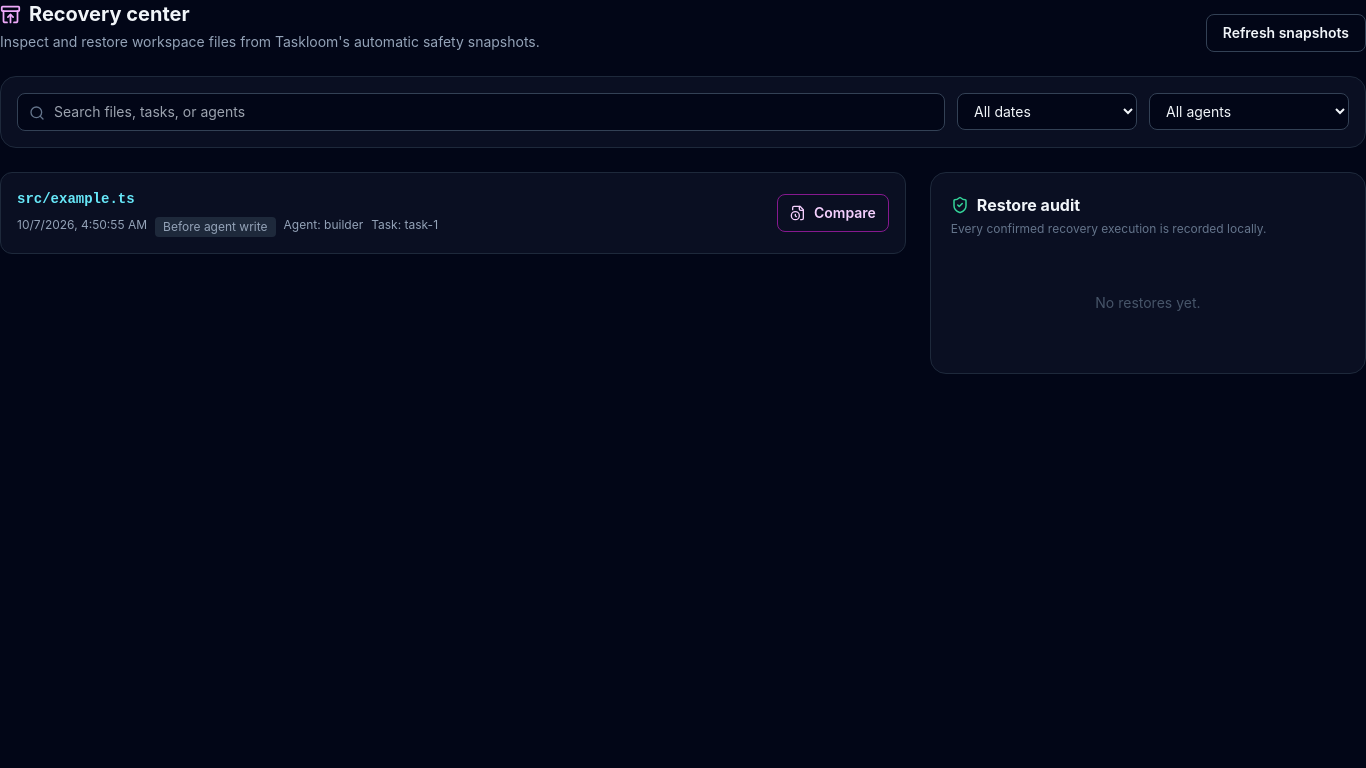
SnapshotsDashboard › filters snapshots and opens a side-by-side preview
Expected: the text "src/example.ts" is shown, [17,191,135,207]
Type "missing" into the field with placeholder "Search files, tasks, or agents" at (481, 112), box [17,93,945,131]
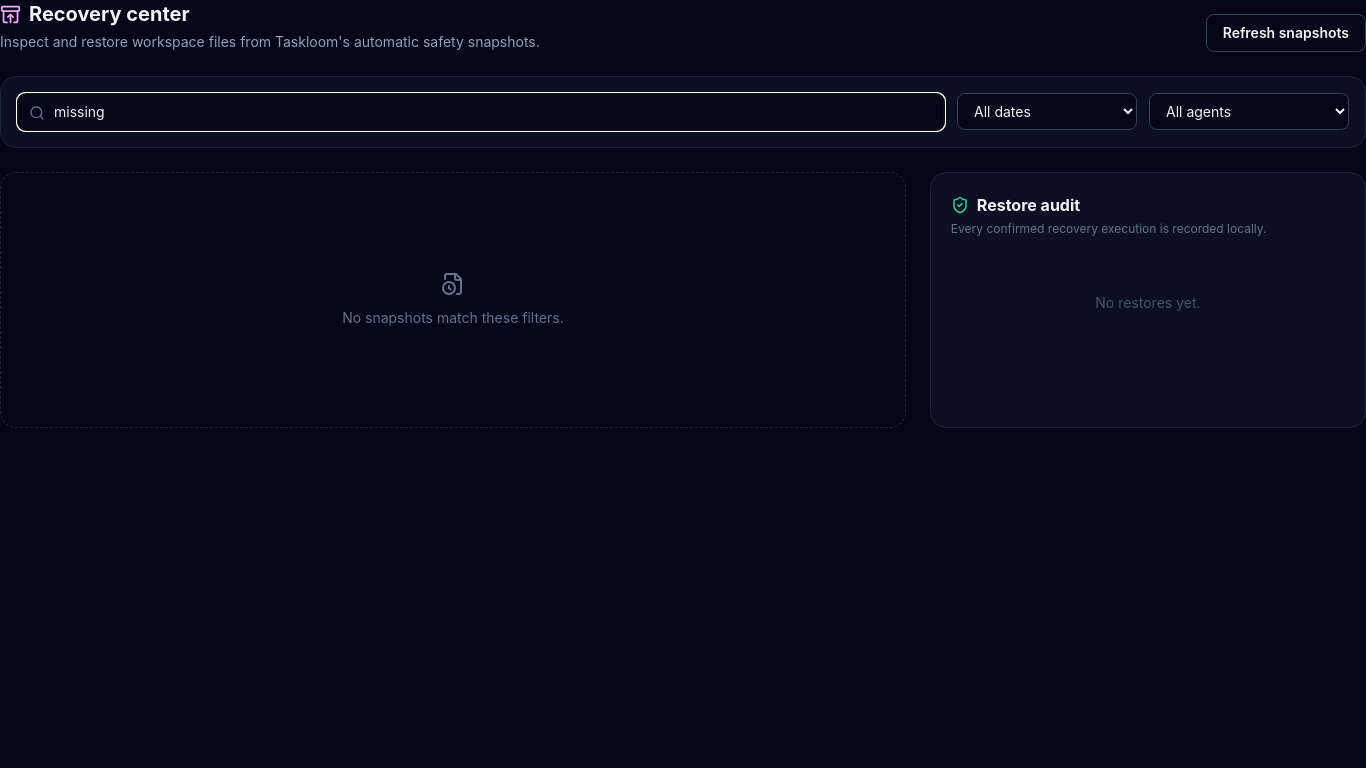
Expected: the text "No snapshots match these filters." is shown, [342,272,564,328]
Clear the field with placeholder "Search files, tasks, or agents" at (481, 112), box [17,93,945,131]
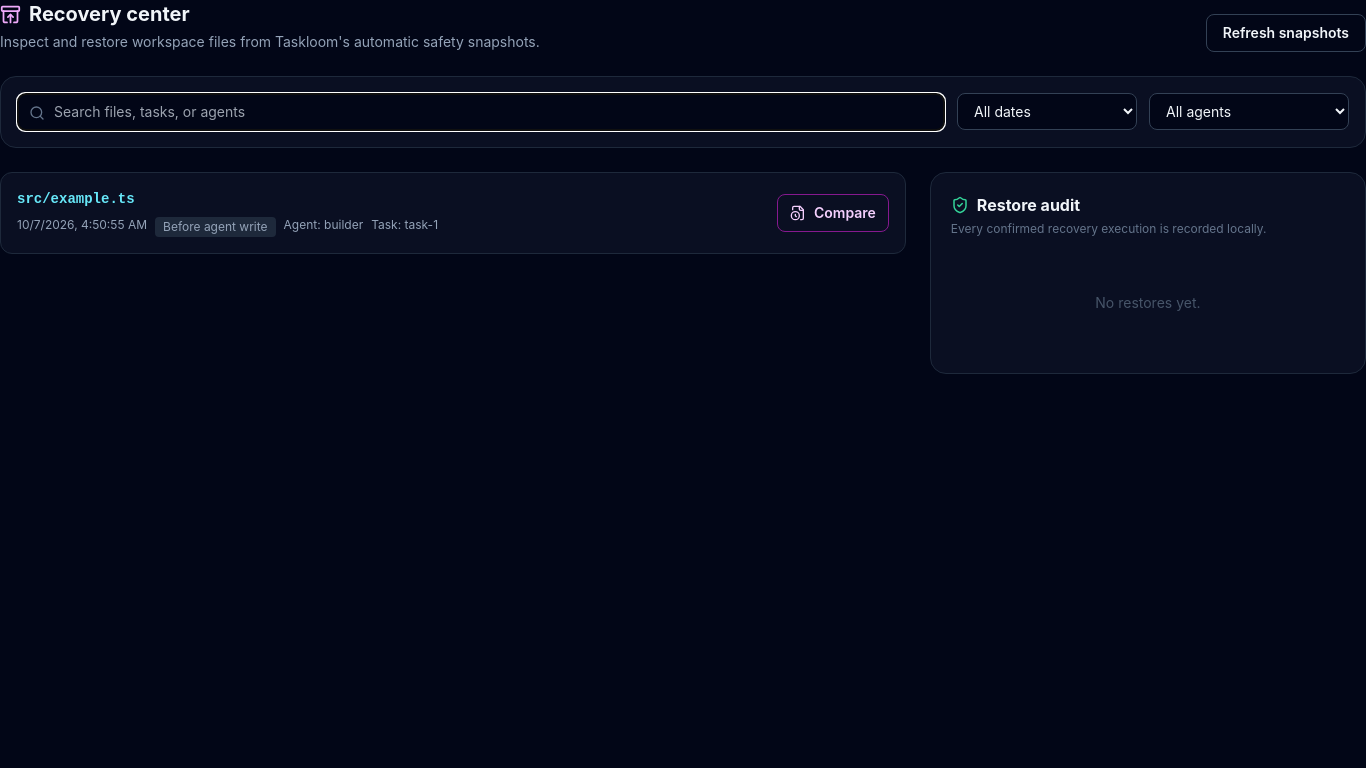
Click the button "Compare" at (833, 213), box [777,194,889,232]
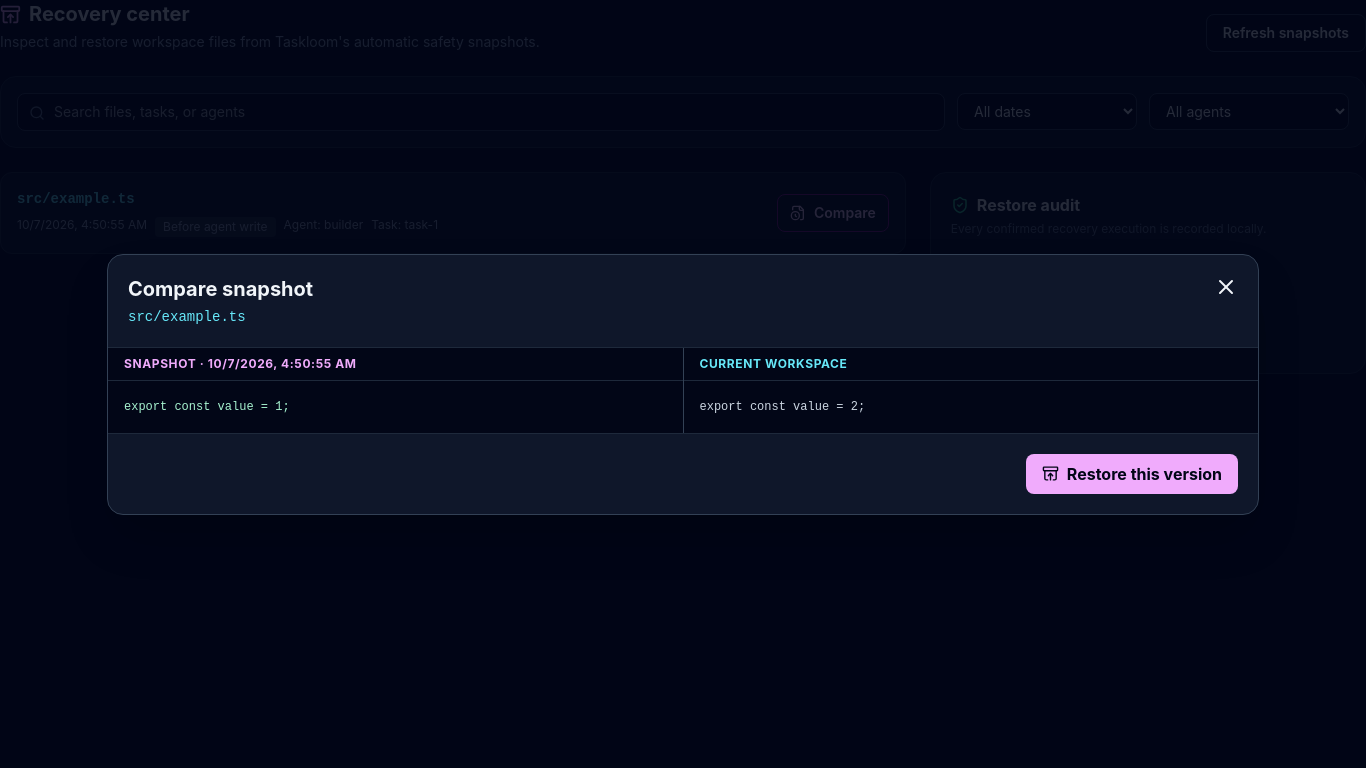
Expected: the dialog shows "export const value = 1;", [124,400,290,414]
Expected: the dialog shows "export const value = 2;", [700,400,865,414]
